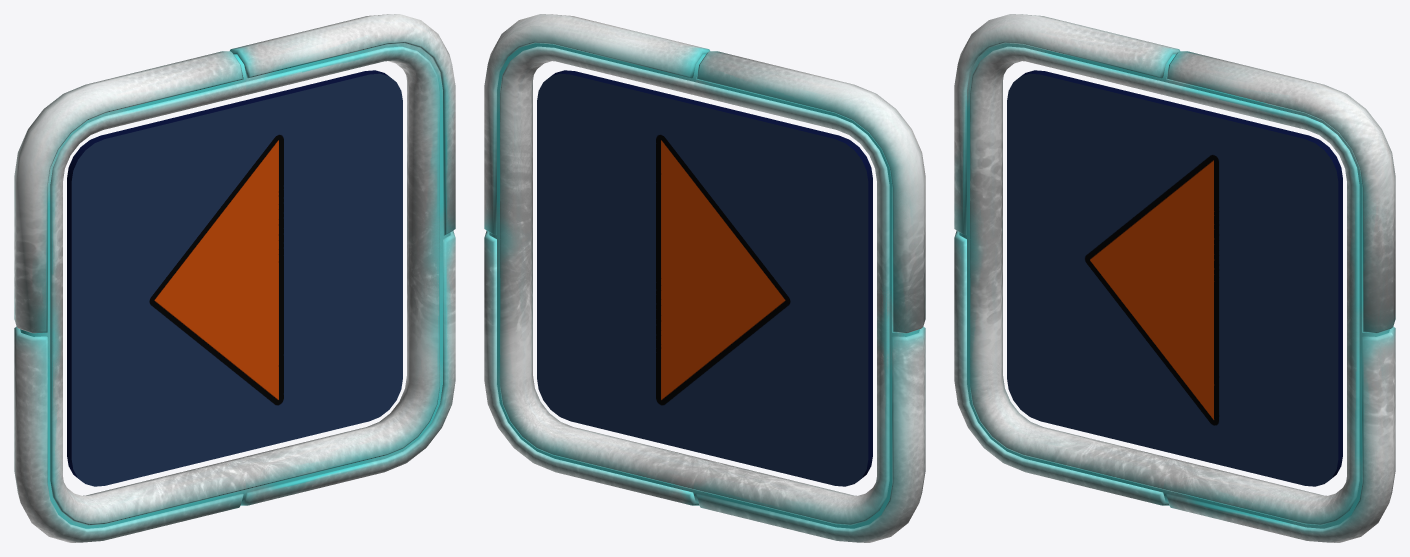
Rendered from Sign01X.FBX.
The picture shows the model from 3 angles, left to right: view 1: azimuth 30°, elevation 25°; view 2: azimuth 150°, elevation 25°; view 3: azimuth 330°, elevation 25°; orthographic projection.
Parts seen in each view (by area): view 1: Sign01; view 2: Sign01; view 3: Sign01.
Boxes of the visible parts, x1,y1,x2,y2 form: Sign01: [14, 14, 455, 542]; Sign01: [484, 14, 925, 542]; Sign01: [954, 14, 1395, 542].
Bounding box in the file's own units: 100 × 100 × 9.23.
Materials: 2 (2 with a texture image).
